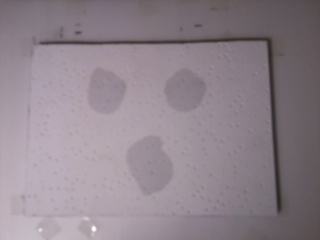Water_detected: (127, 143, 170, 193), (169, 75, 206, 114), (85, 74, 119, 111)
